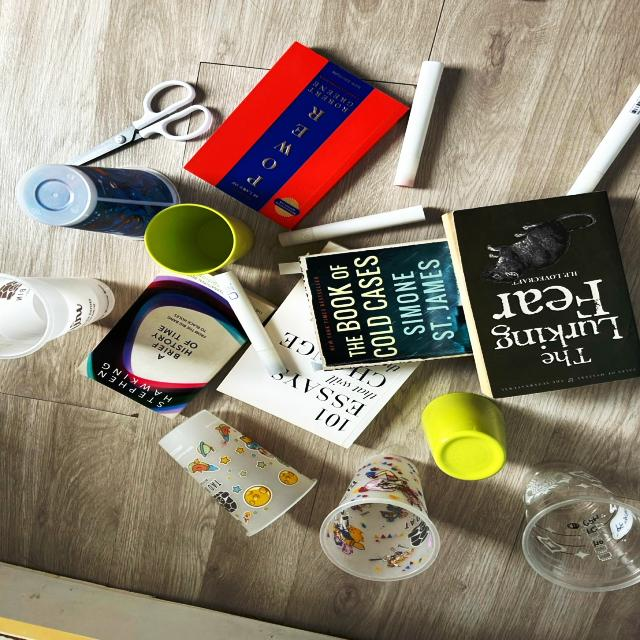Book: (184, 42, 408, 229), (444, 192, 639, 399), (218, 277, 423, 450), (75, 268, 288, 420), (301, 241, 471, 370)
HighLight Pen: (568, 85, 639, 195), (213, 272, 285, 375), (395, 61, 444, 187), (278, 206, 425, 247)
Plastic Cup: (160, 410, 316, 536), (320, 453, 439, 581), (522, 463, 639, 591), (16, 164, 180, 240), (0, 273, 113, 358)
Scissors: (68, 81, 211, 166)
WaterGlass: (144, 204, 254, 275), (422, 393, 507, 480)
